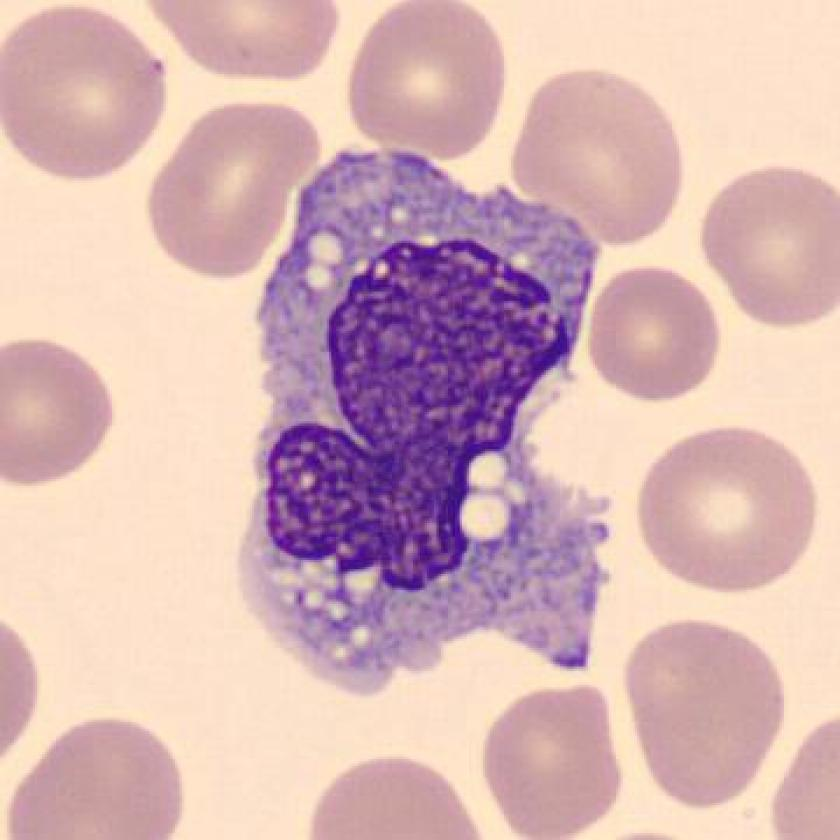monocyte: (223, 126, 638, 718)
